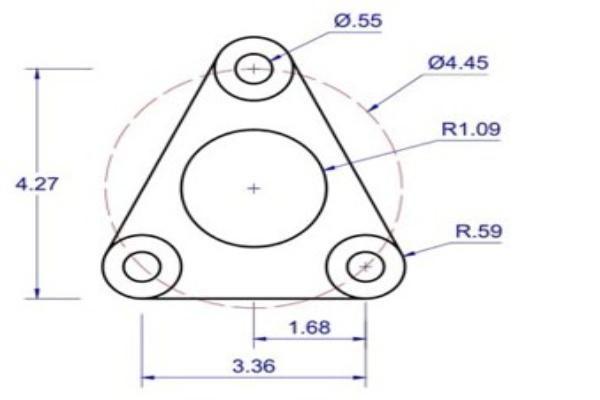dimensions: (413, 49, 496, 76), (450, 206, 509, 242), (434, 114, 512, 140), (325, 6, 385, 32), (229, 350, 280, 380), (9, 172, 70, 195), (284, 314, 336, 336)
